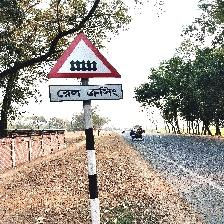Rail-crossing: (46, 32, 124, 103)
